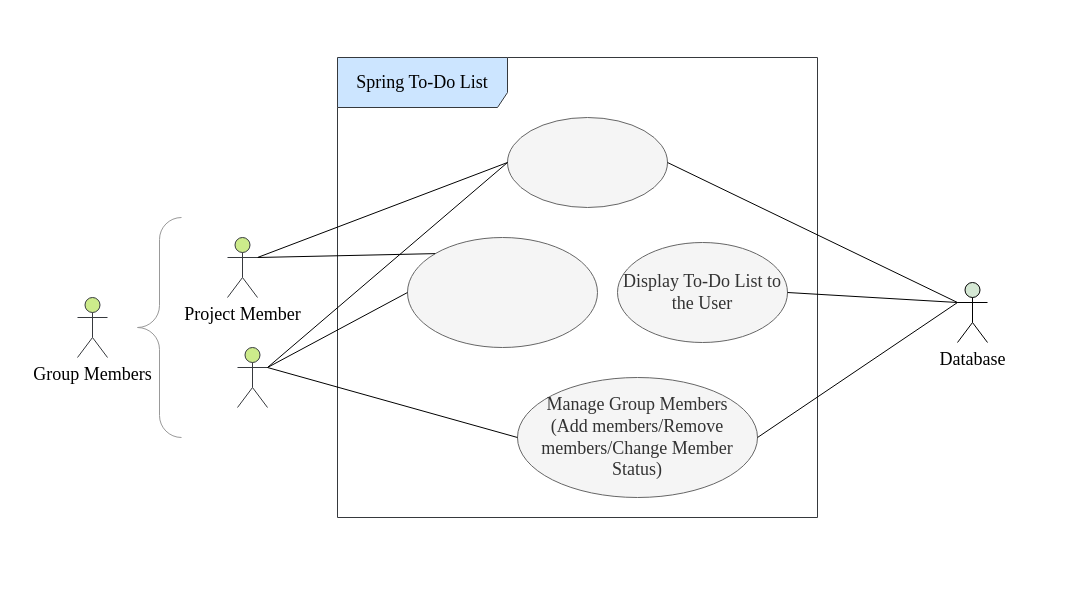
This 1085x605 diagram has some shape labels left out. Here are the shapes that lost their labels. From the top down, the centre of each, then its label:
At pixel 587 162: "Manage To-Do List (Create/Edit/Delete)".
At pixel 502 292: "Manage Groups (Create/Edit/Delete)".
At pixel 252 377: "Project Manager".
